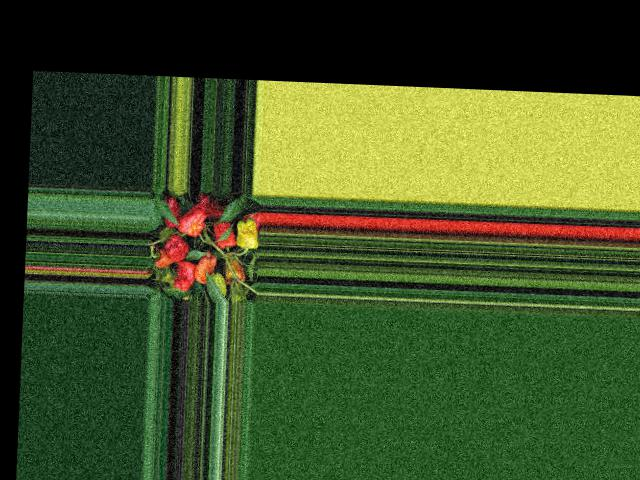bell_pepper: (152, 253, 172, 268)
